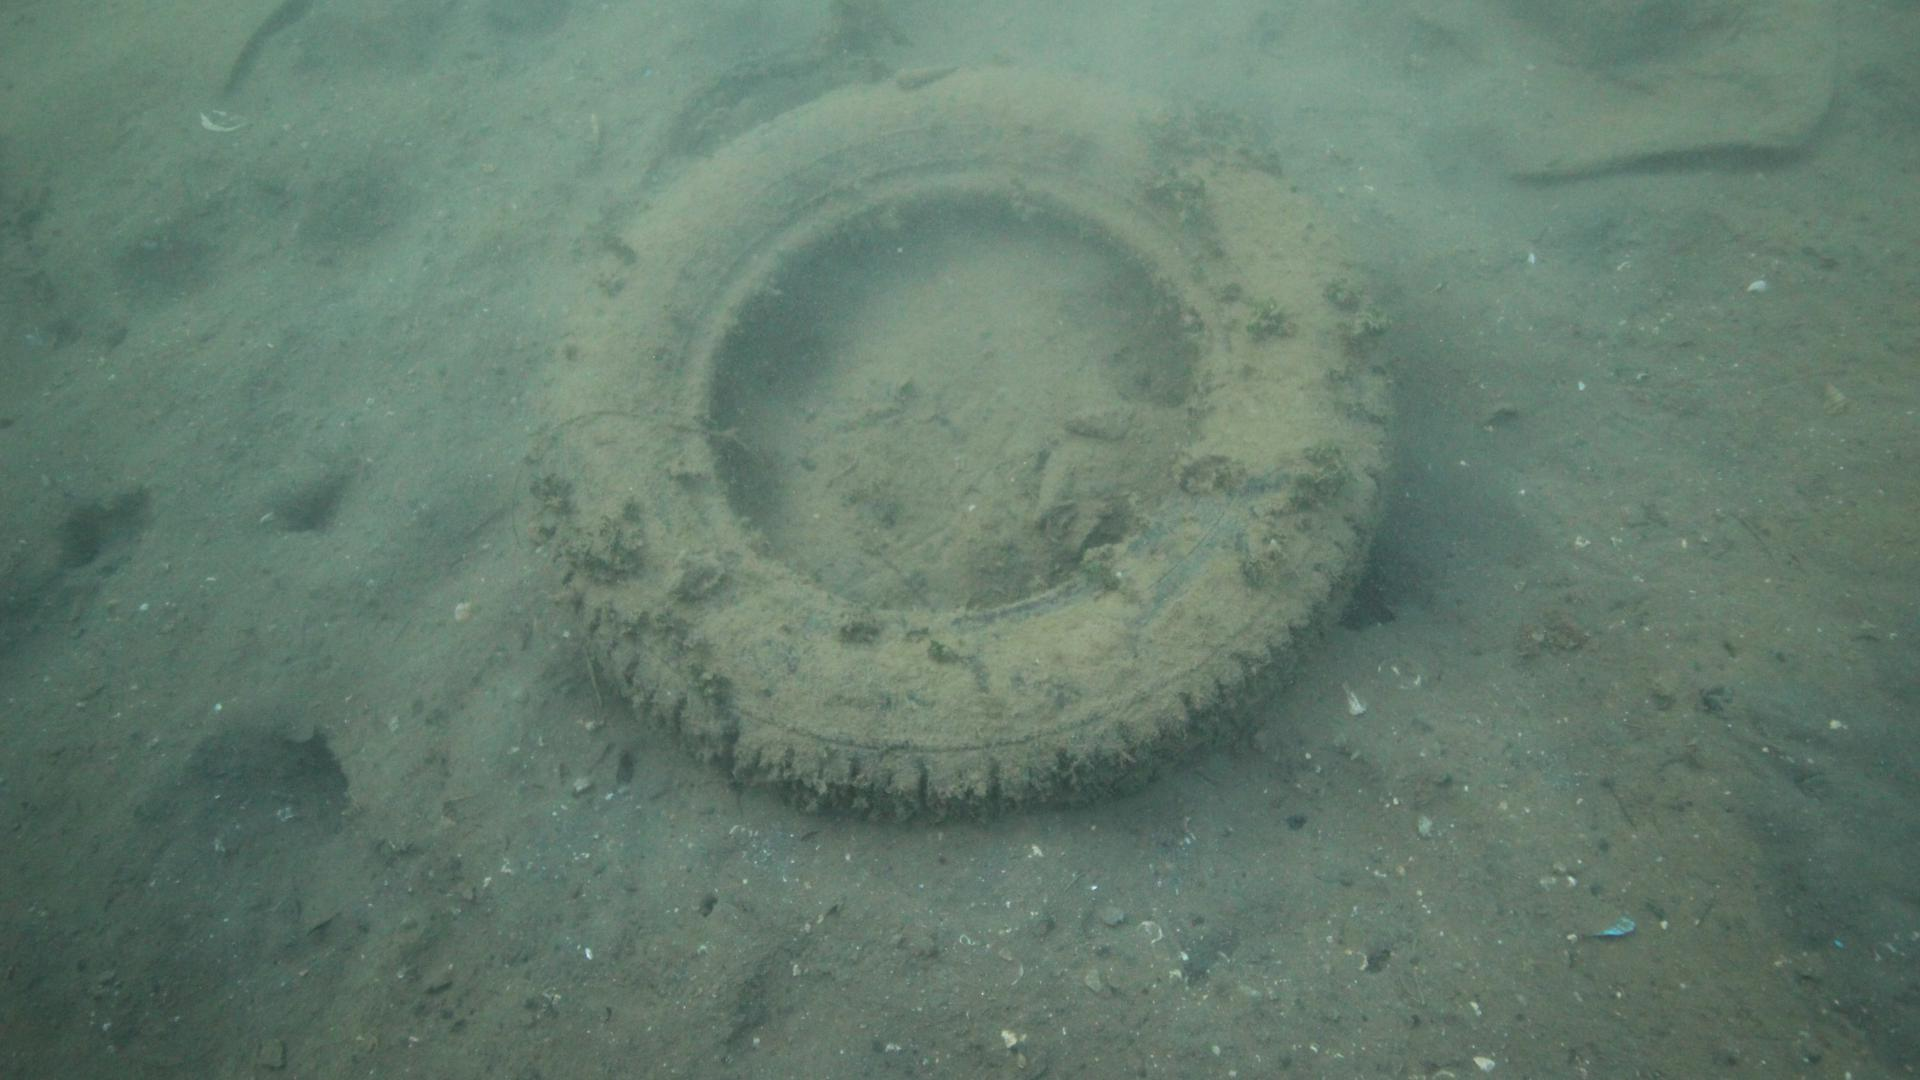tire: (530, 62, 1396, 820)
